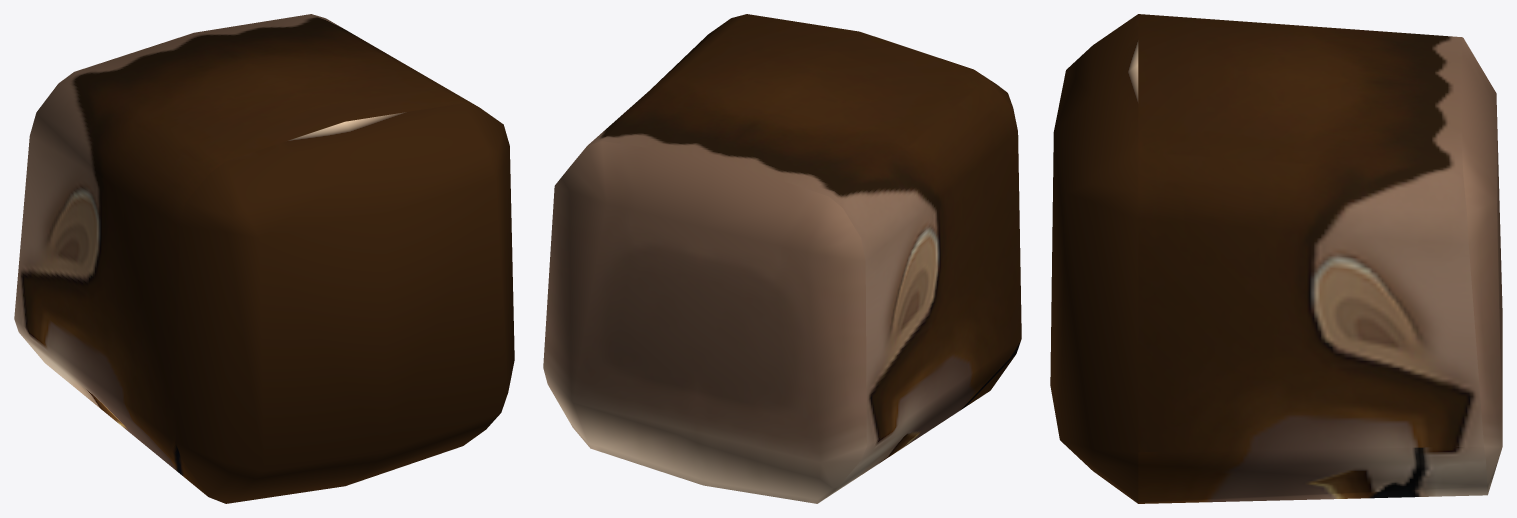
The model's file is Avatar_Cowboy_H_Head_0_dc2ead02__Avatar_Cowboy_A_e54d7344_c1f257.obj.
The picture shows the model from 3 angles, left to right: view 1: azimuth 30°, elevation 25°; view 2: azimuth 150°, elevation 25°; view 3: azimuth 270°, elevation 25°; orthographic projection. The views are drawn at different scales.
Bounding box in the file's own units: 0.6857 × 0.7049 × 0.7416.
Materials: 1 (1 with a texture image).
